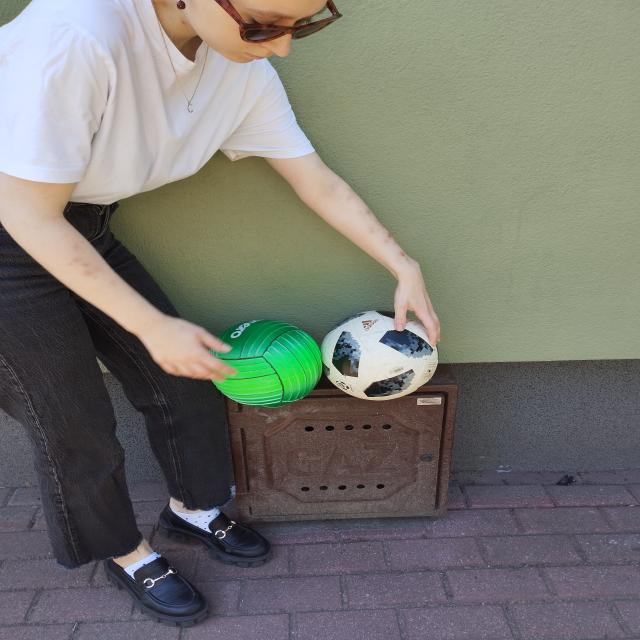nozna: (323, 310, 439, 400)
zielona: (208, 319, 323, 408)
